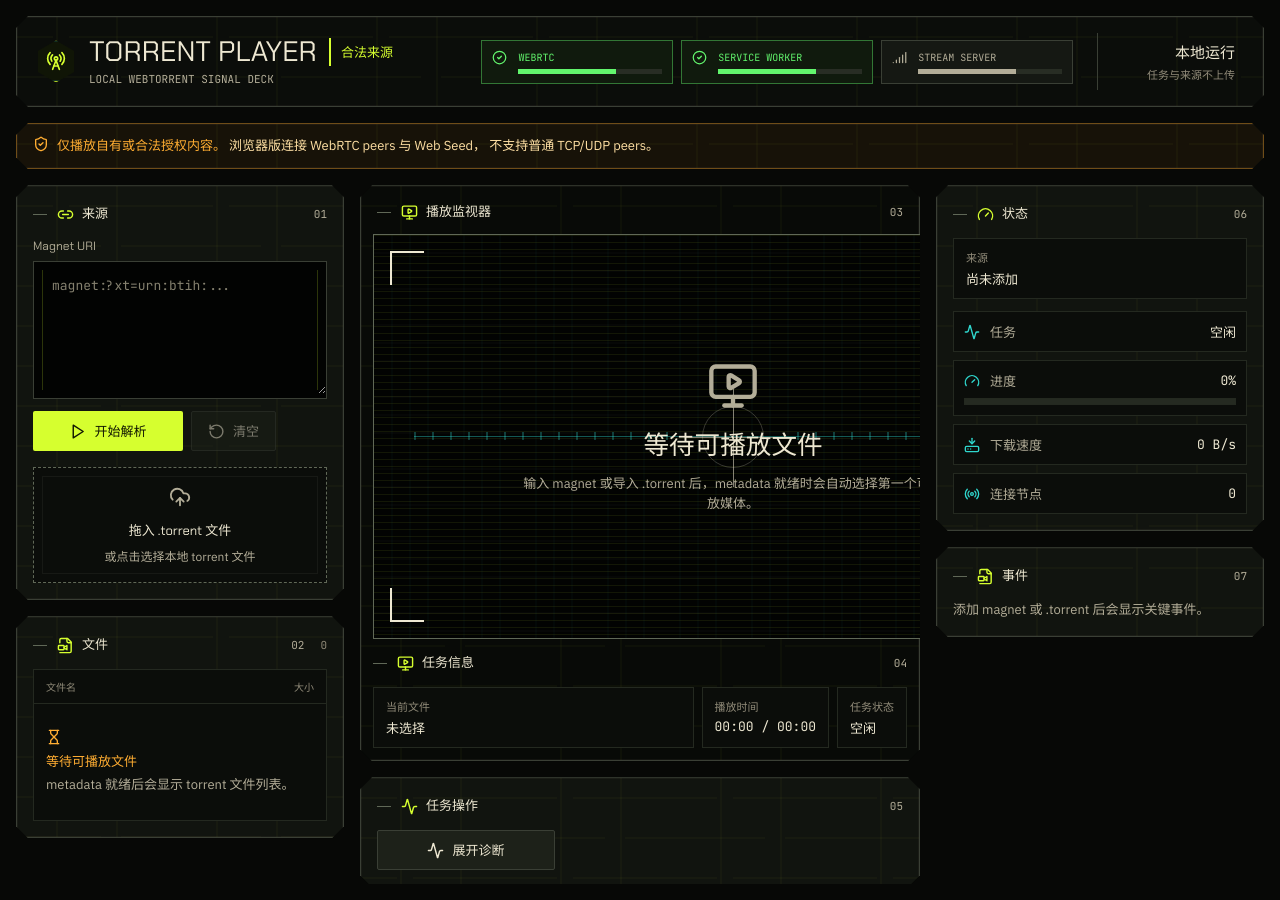
Test: App › shows a recoverable validation error for invalid magnet input
Step 1. Type "not a magnet" into the text box labelled "Magnet URI" → (180, 328), box [34,262,326,394]
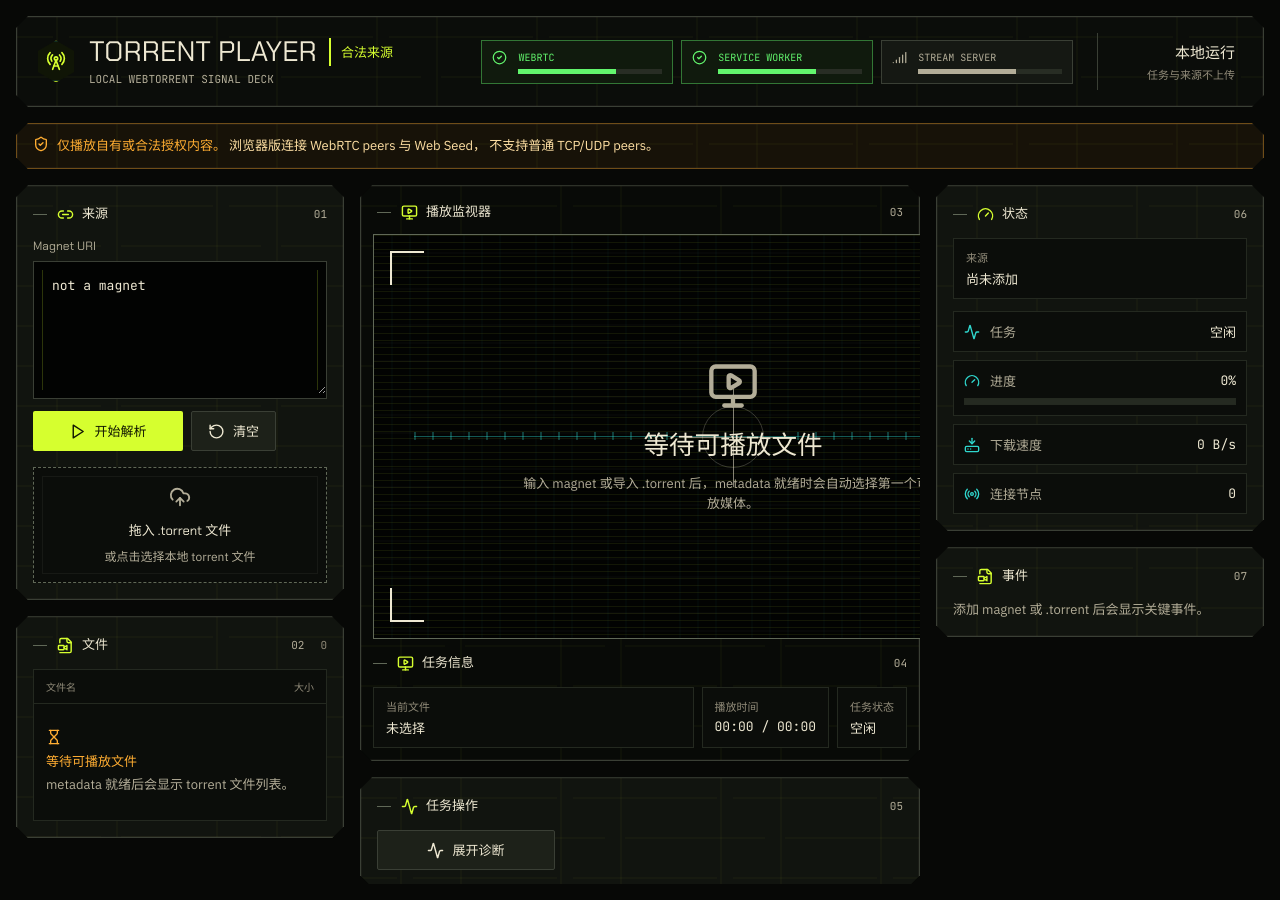
Step 2. Click the button "开始解析" → (108, 431), box [33,411,183,451]
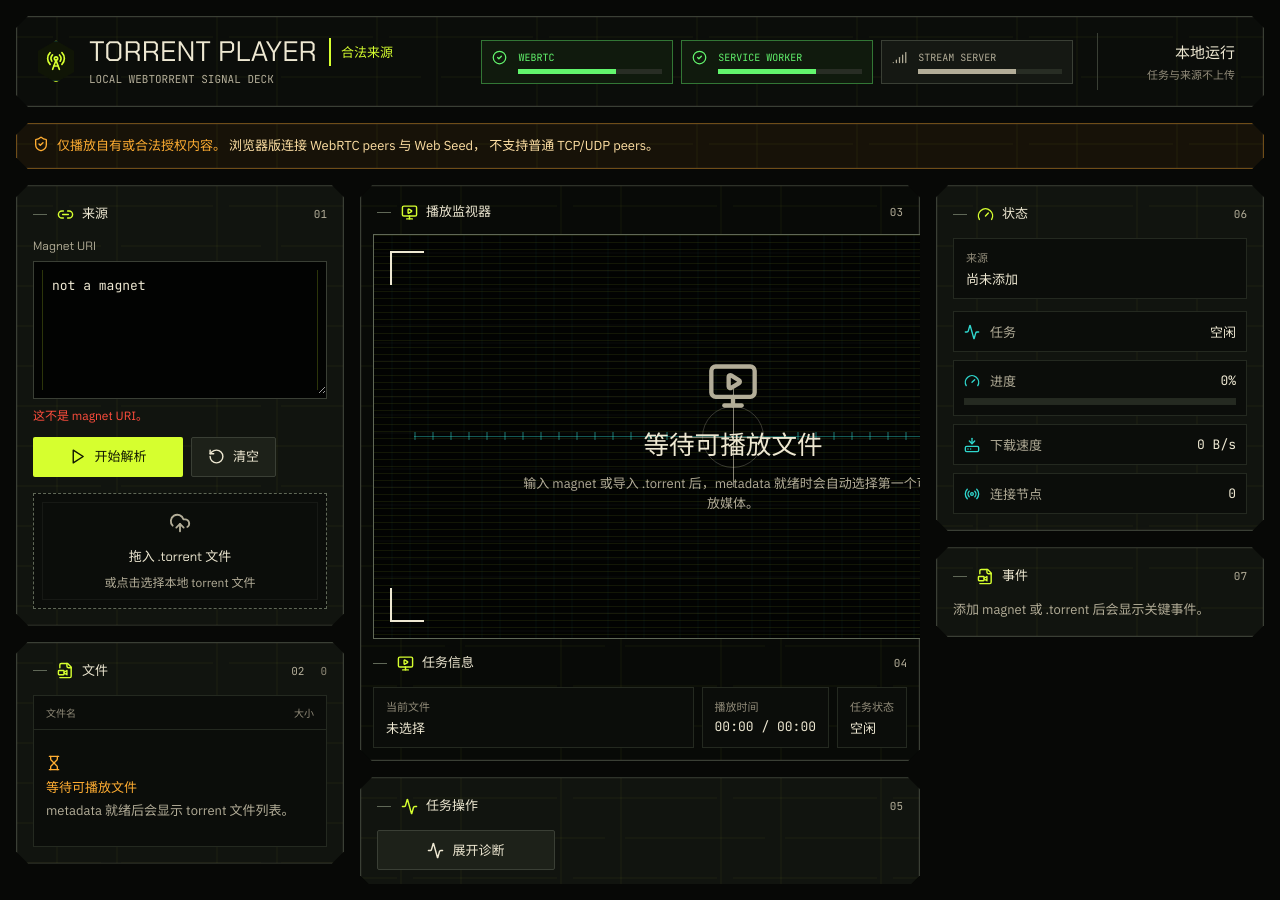
Expected: the message "这不是 magnet URI。" is shown, [33,408,148,423]
Step 3. Click the button "清空" → (234, 456), box [191,436,276,476]
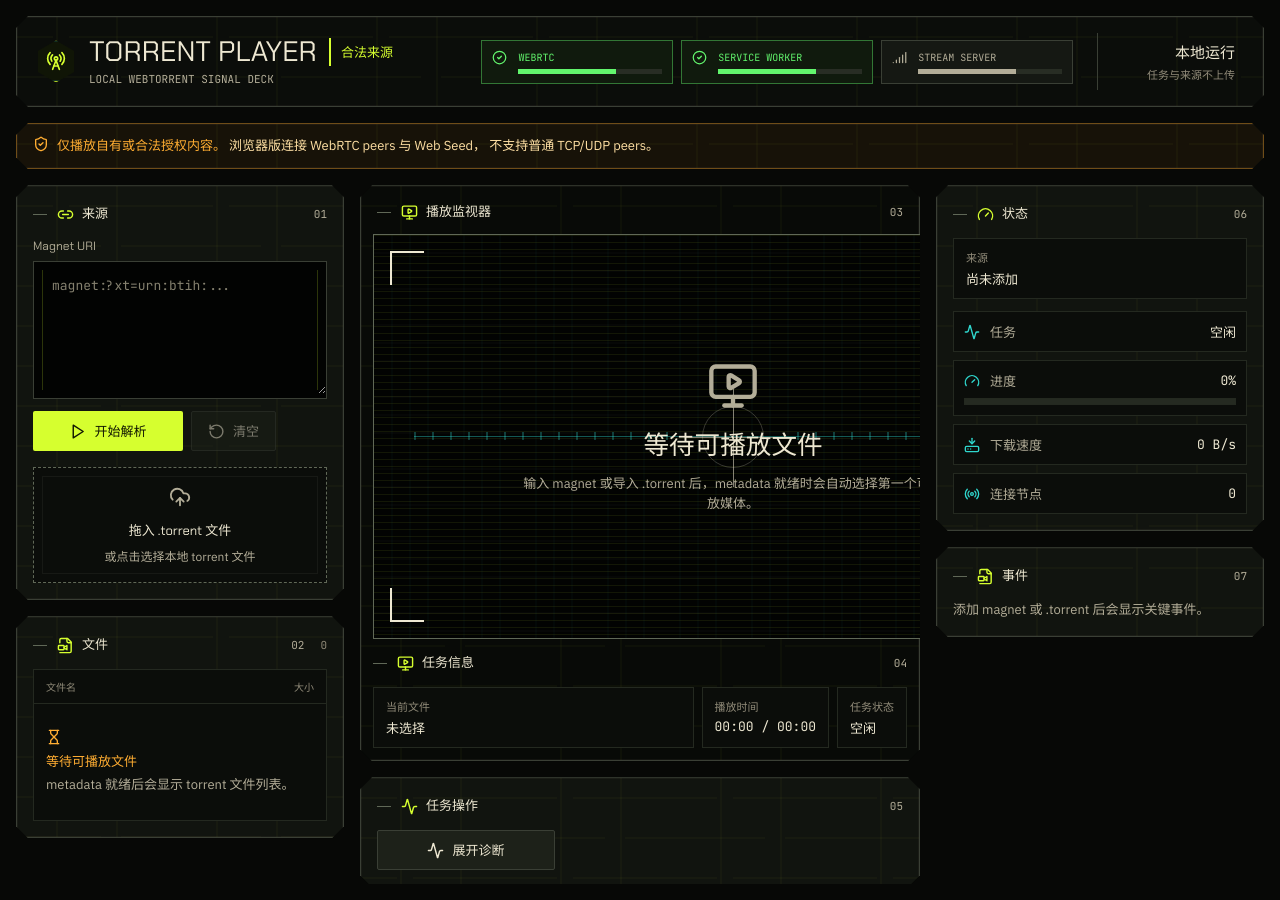
Expected: the text box labelled "Magnet URI" is empty, [34,262,326,394]
Expected: the message "这不是 magnet URI。" is gone
